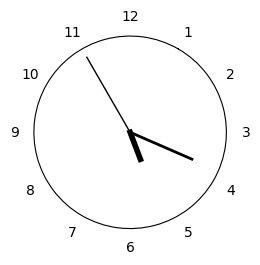12: (122, 9, 139, 23)
circle: (34, 36, 227, 228)
hours: (127, 129, 142, 162)
minutes: (132, 133, 194, 161)
seconds: (86, 56, 127, 129)
